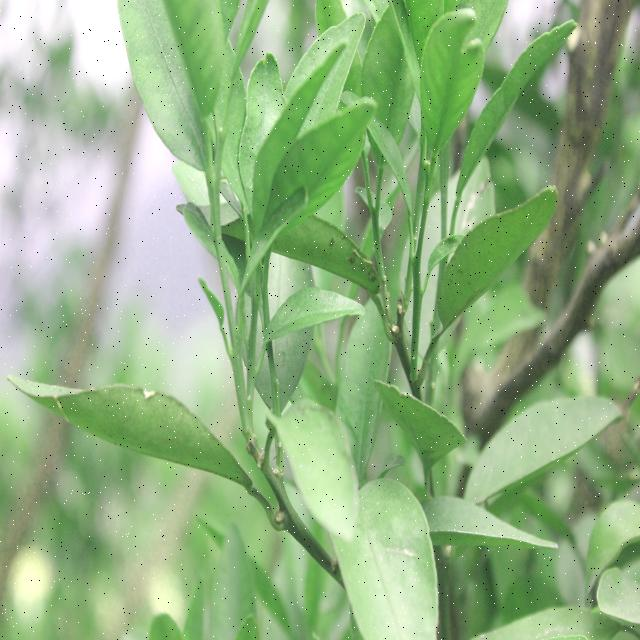blackspot: (299, 224, 376, 286), (441, 235, 496, 314)
